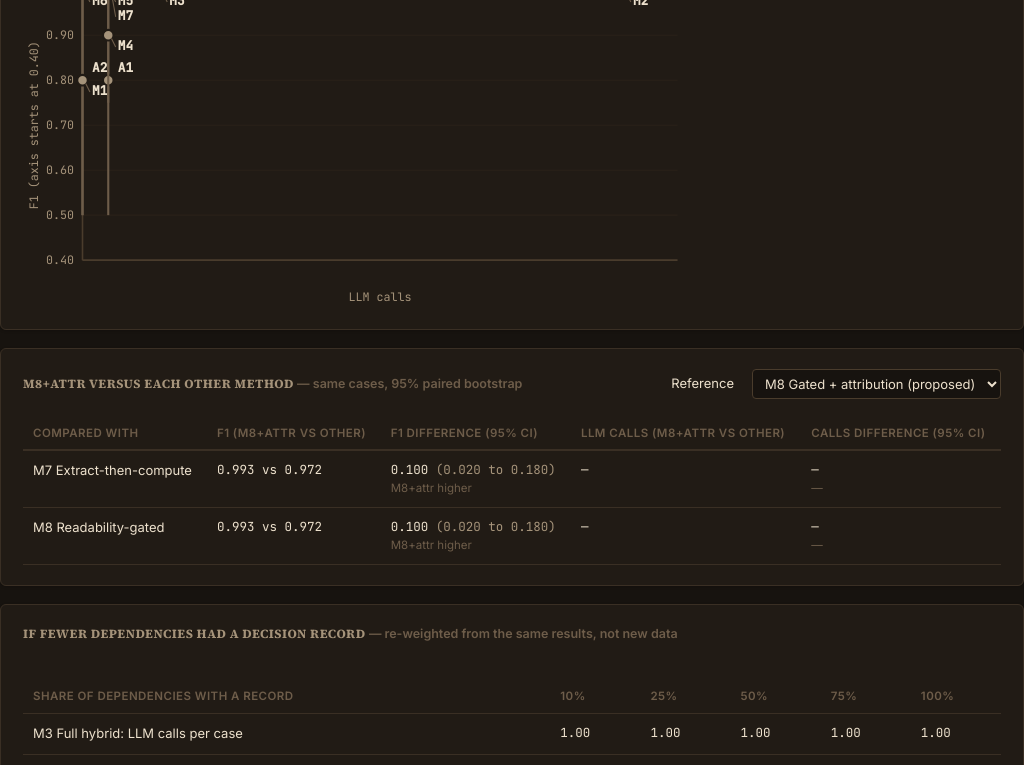
Test: Evaluation page — paired comparison and ADR-density sections › defaults to the proposed method as the reference and lets the reader switch, with the title following
(page scrolled)
Check: the heading "M8+attr versus each other method" is shown, box left=23, top=375, right=522, bottom=394
Check: the number of rows with test id "paired-row" is 2, box left=23, top=451, right=1001, bottom=508; left=23, top=508, right=1001, bottom=565
Select "M5 Evidence-guided (v1 policy)" in the dropdown with test id "paired-ref" at (876, 384), box left=752, top=369, right=1001, bottom=399
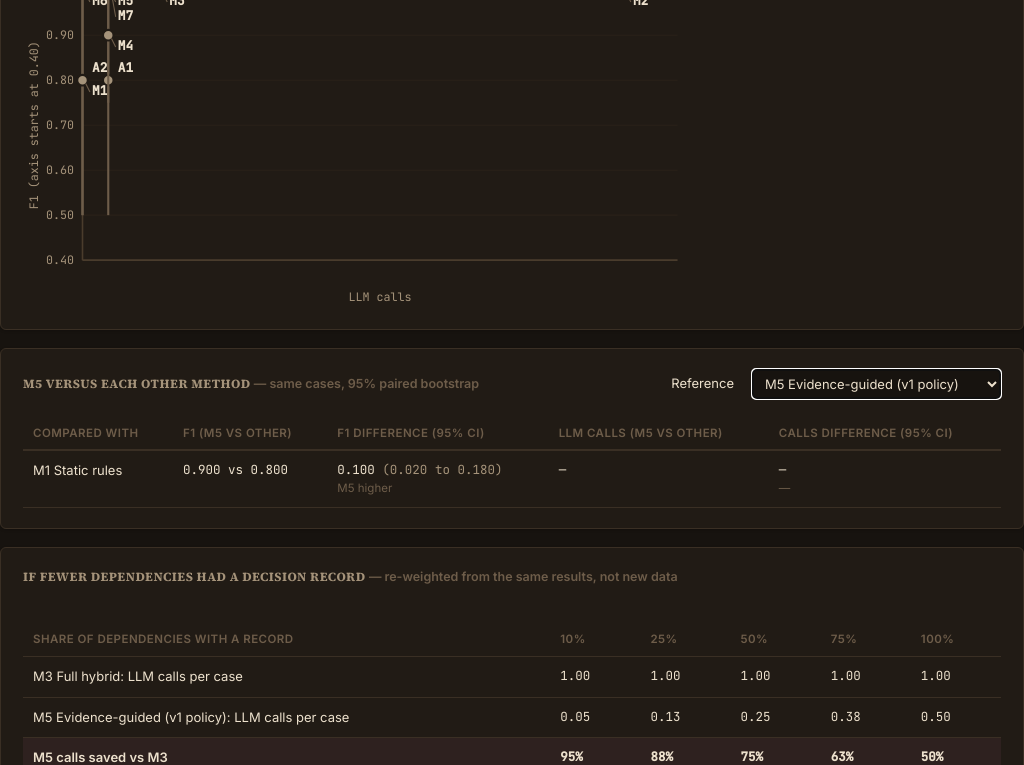
Check: the number of rows with test id "paired-row" is 1, box left=23, top=451, right=1001, bottom=508
Check: the heading "M5 versus each other method" is shown, box left=23, top=375, right=479, bottom=394
